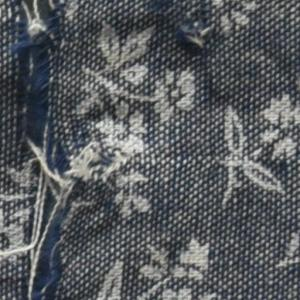Damage: (1, 1, 134, 300), (156, 1, 266, 61), (153, 233, 235, 274)
